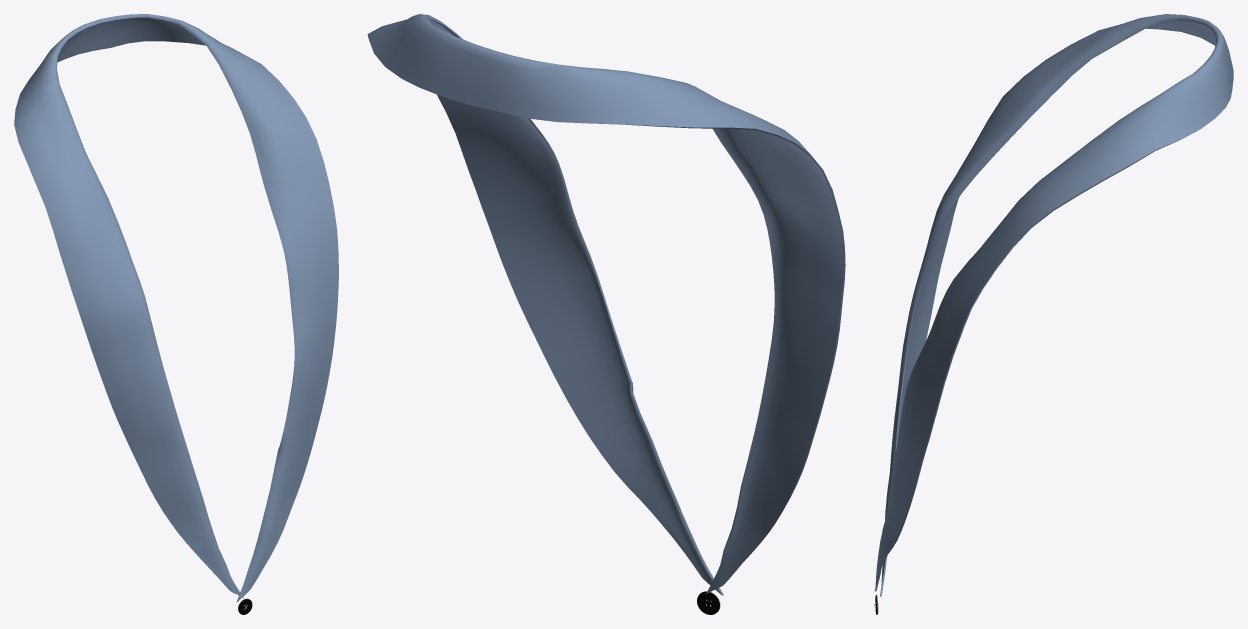
Rendered from SM_CarlosSA_Jacket_SingleBreasted_Lapel_Shawl.fbx.
3 renders of one model, left to right at view 1: azimuth 30°, elevation 25°; view 2: azimuth 150°, elevation 25°; view 3: azimuth 270°, elevation 25°, orthographic. The views are drawn at different scales.
Parts seen in each view (by area): view 1: SM_CarlosSA_Jacket_SingleBreasted_Lapel_Shawl; view 2: SM_CarlosSA_Jacket_SingleBreasted_Lapel_Shawl; view 3: SM_CarlosSA_Jacket_SingleBreasted_Lapel_Shawl.
Boxes of the visible parts, x1,y1,x2,y2 form: SM_CarlosSA_Jacket_SingleBreasted_Lapel_Shawl: [14, 14, 338, 614]; SM_CarlosSA_Jacket_SingleBreasted_Lapel_Shawl: [367, 14, 845, 614]; SM_CarlosSA_Jacket_SingleBreasted_Lapel_Shawl: [874, 14, 1233, 614].
Size of the model in its own units: 0.2626 by 0.4518 by 0.2558.
